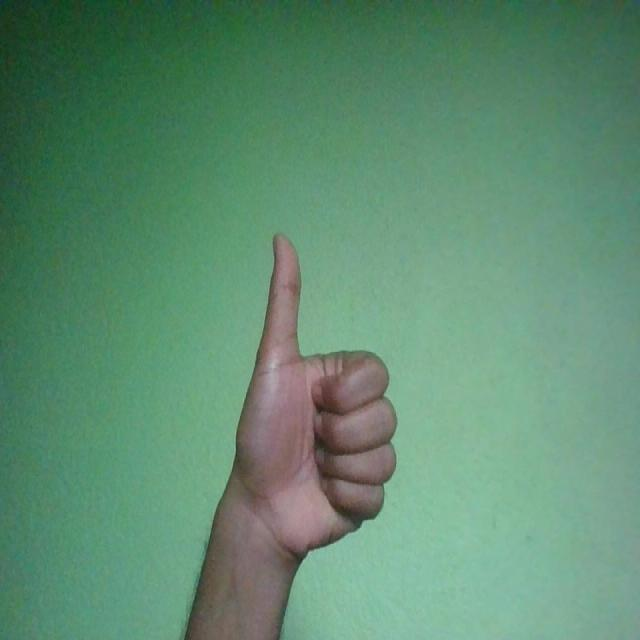Good Job: (235, 232, 396, 562)
